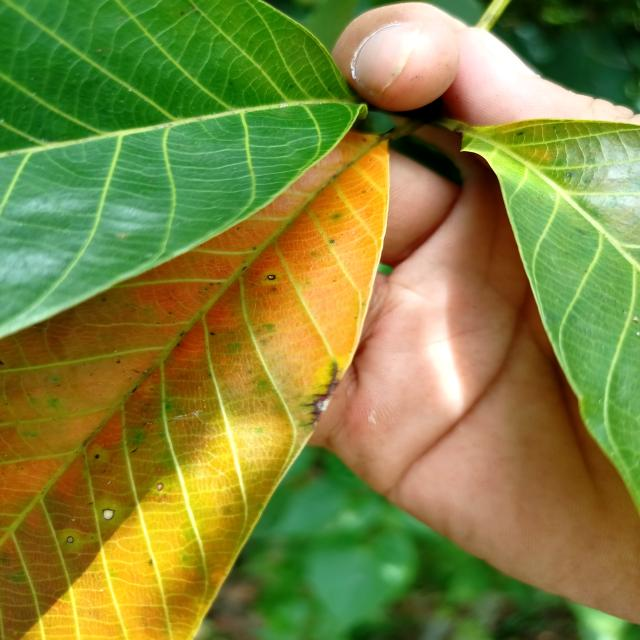Colletotrichum: (102, 508, 116, 520), (67, 536, 75, 544), (267, 274, 276, 280), (158, 482, 164, 490)
Corynespora: (297, 361, 341, 428)
